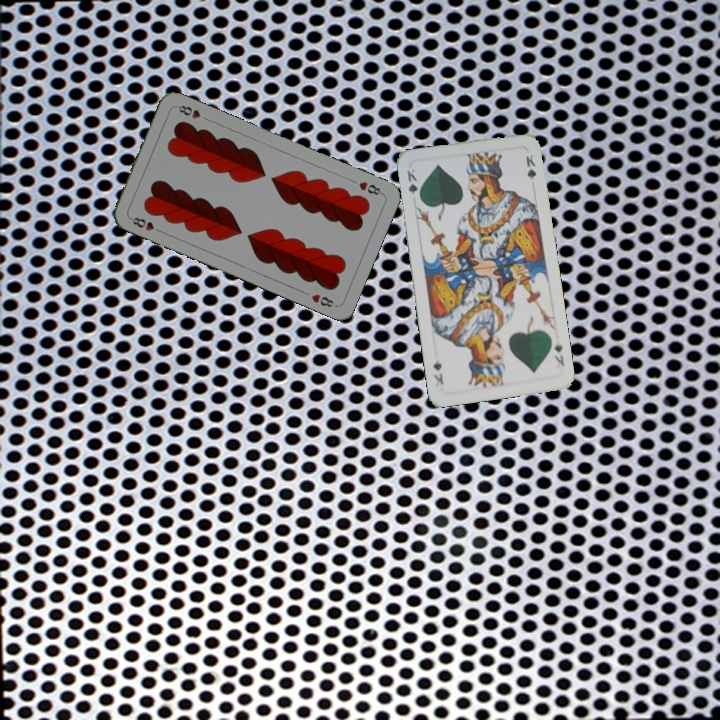GK: (403, 165, 423, 203), (550, 340, 567, 368)
H8: (126, 213, 165, 235), (355, 177, 386, 198)
